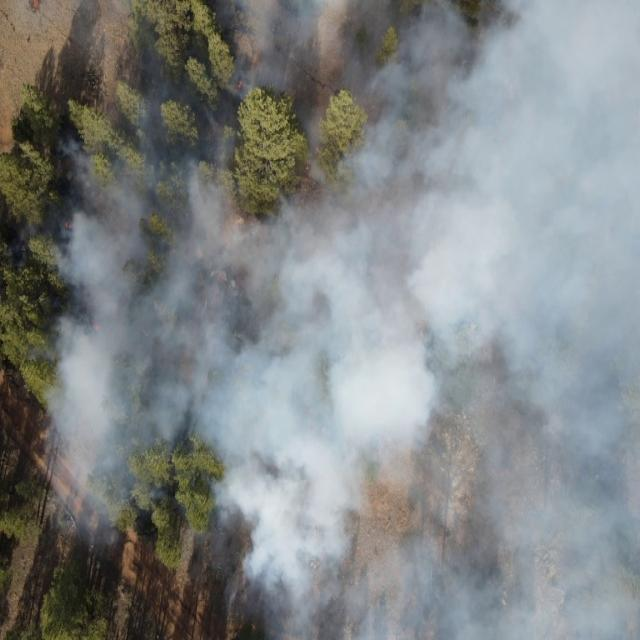fire: (234, 74, 248, 100), (62, 214, 78, 234), (28, 0, 46, 12)
smoke: (47, 132, 640, 538), (119, 2, 640, 128), (215, 542, 640, 640)
